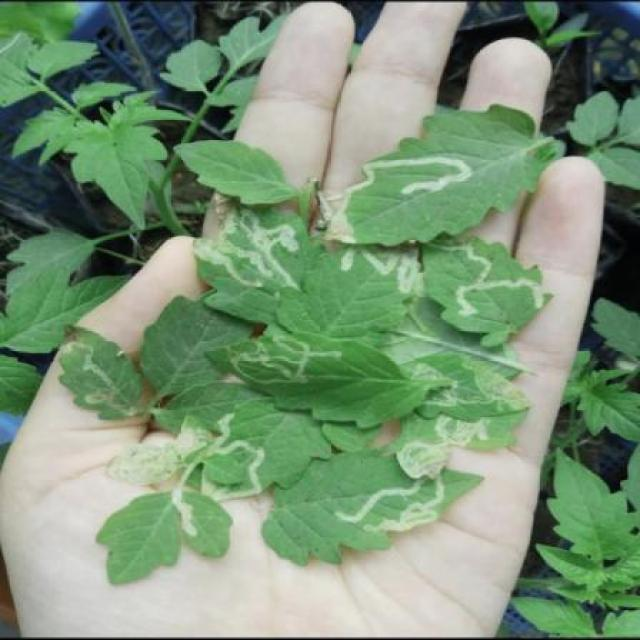Healthy: (548, 452, 640, 560), (173, 140, 291, 207)
Leaf Miner: (322, 104, 559, 247), (259, 454, 485, 566), (203, 329, 428, 428), (425, 233, 552, 348), (94, 488, 233, 589), (191, 202, 308, 294), (54, 321, 140, 424)
